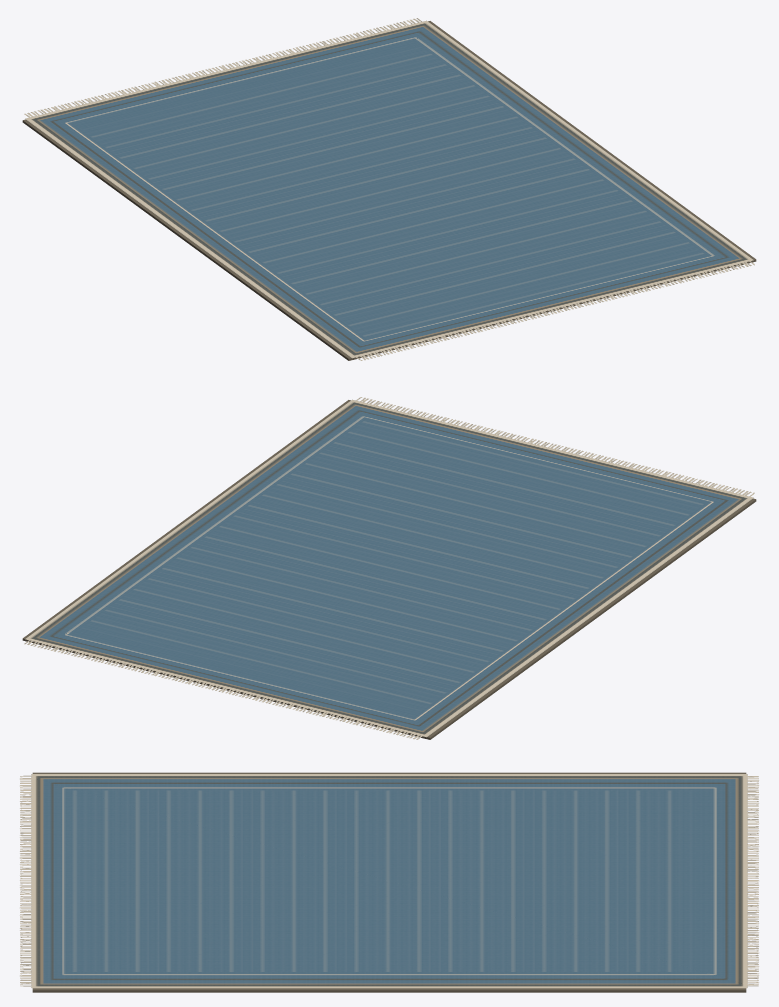
Rendered from officeLinenDenim.glb.
3 renders of one model, top to bottom at view 1: azimuth 30°, elevation 25°; view 2: azimuth 150°, elevation 25°; view 3: azimuth 270°, elevation 25°, orthographic. The views are drawn at different scales.
Bounding box in the file's own units: 2.4 × 0.014 × 3.5.
2 materials, 1 textured.
